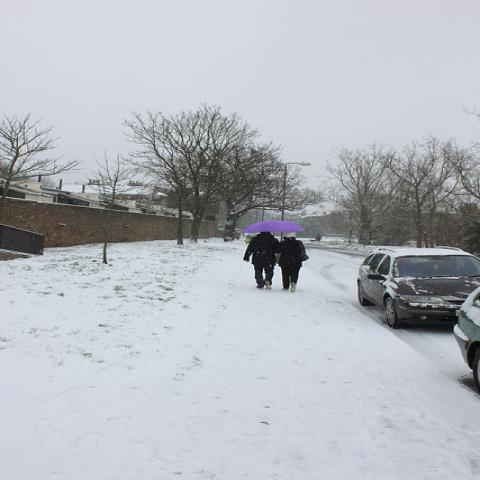car: (356, 245, 479, 324), (450, 284, 479, 384)
